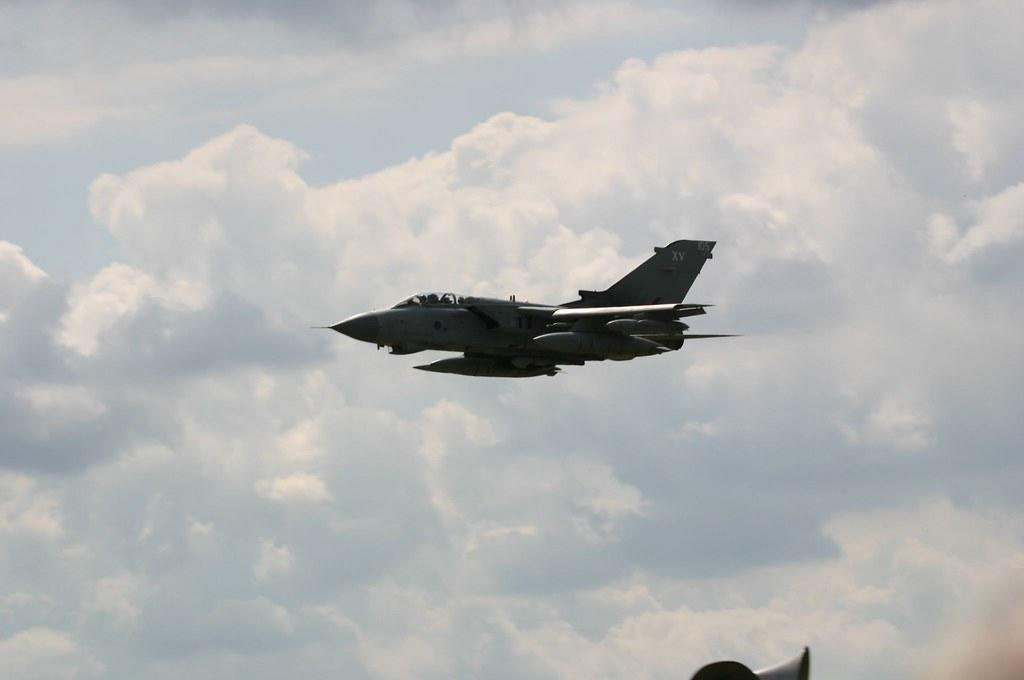plane: (311, 238, 744, 379)
